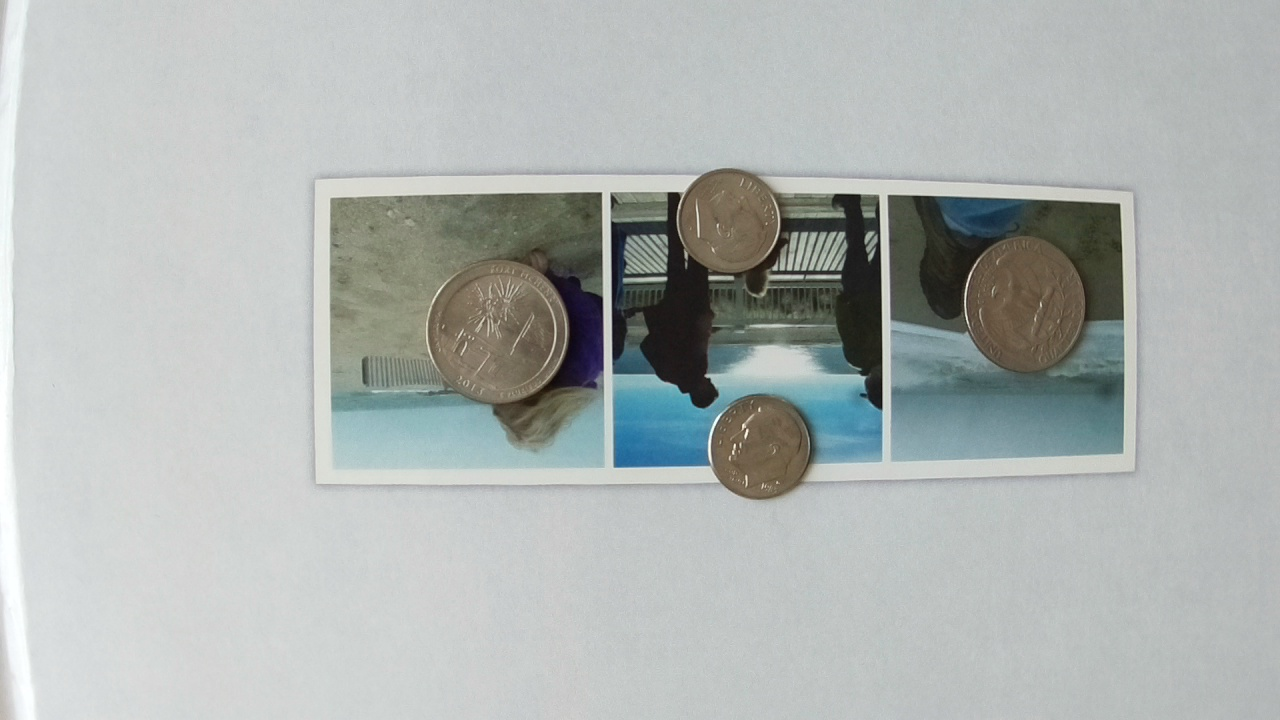dime: (707, 393, 815, 501), (678, 168, 782, 272)
quarter: (428, 256, 566, 404), (961, 230, 1089, 374)
